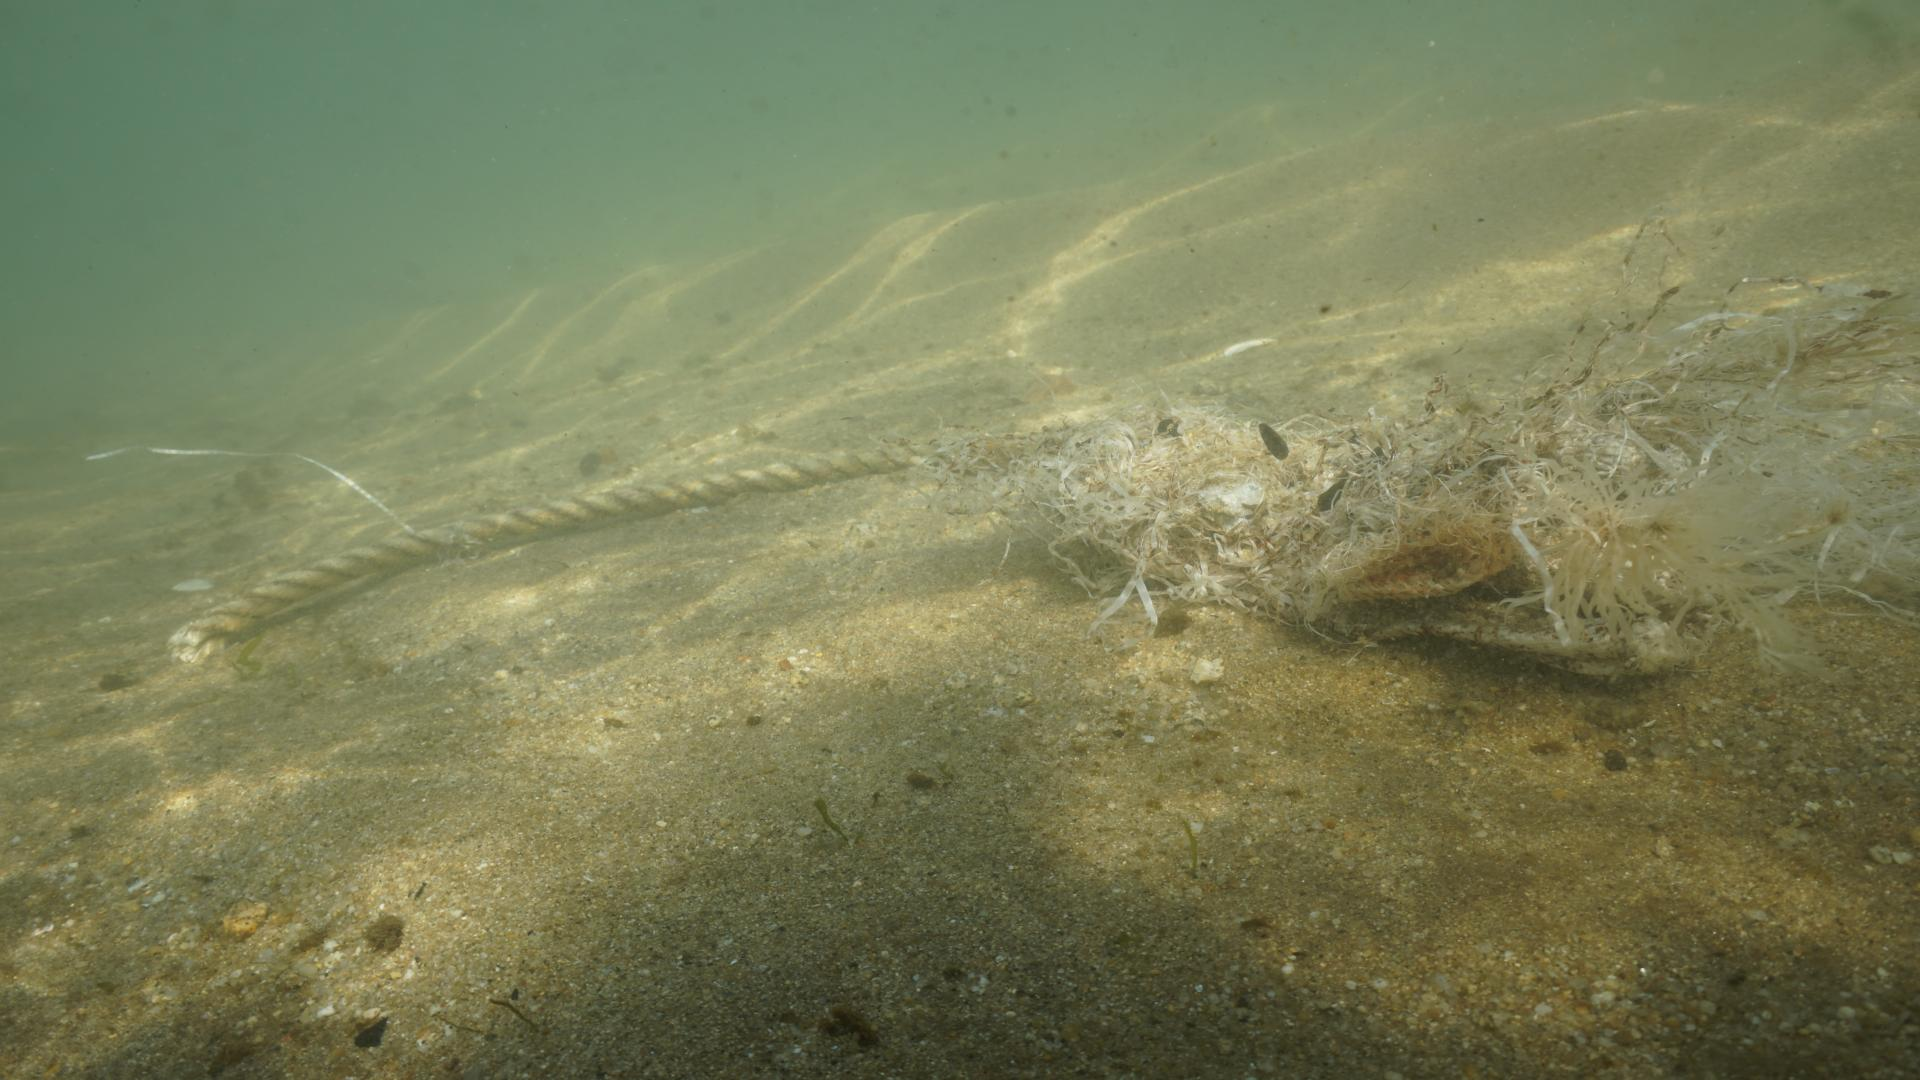bundle of ropes: (170, 266, 1096, 679)
